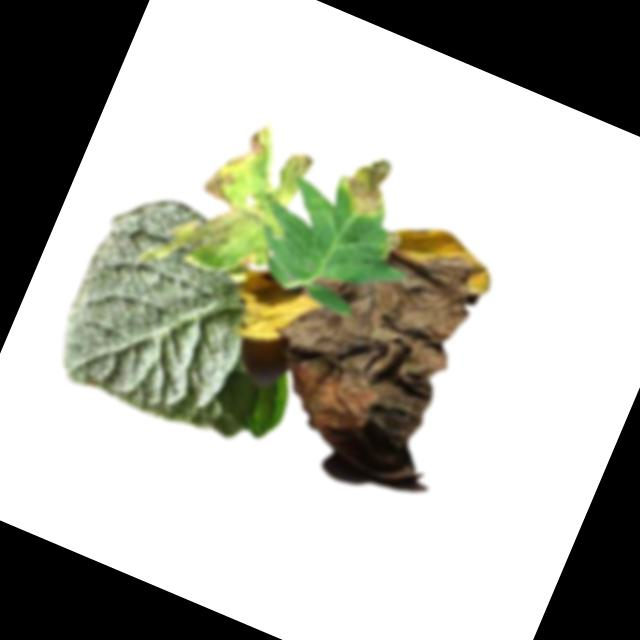Late_blight: (248, 184, 504, 469), (171, 108, 321, 284), (221, 254, 326, 357), (329, 146, 402, 226)
healthy: (41, 175, 346, 464)
